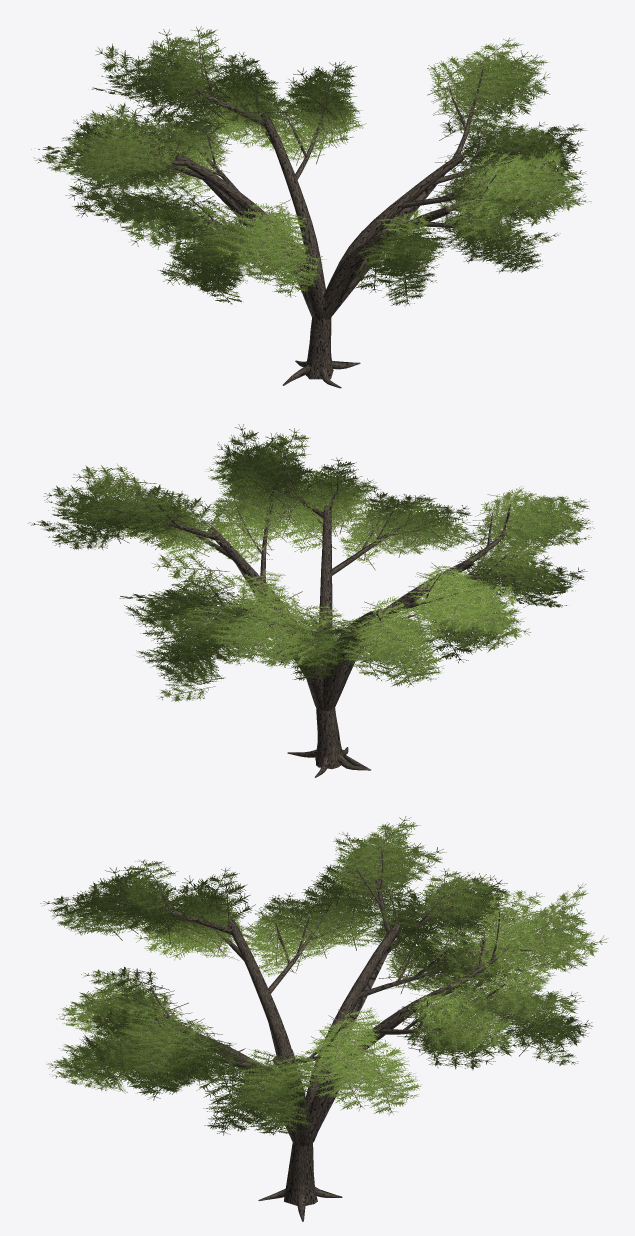
Rendered from acacia.glb.
The picture shows the model from 3 angles, top to bottom: view 1: azimuth 30°, elevation 25°; view 2: azimuth 150°, elevation 25°; view 3: azimuth 270°, elevation 25°; orthographic projection. The views are drawn at different scales.
Parts seen in each view (by area): view 1: Leaves, Leaves_far, Trunk, Trunk_far; view 2: Leaves, Leaves_far, Trunk, Trunk_far; view 3: Leaves, Leaves_far, Trunk, Trunk_far.
Part boxes in pixels (x1,y1,x2,y2): Leaves: (31,26,591,306); Leaves_far: (68,46,587,291); Trunk: (113,54,530,388); Trunk_far: (118,70,539,385); Leaves: (28,424,594,701); Leaves_far: (58,424,589,686); Trunk: (85,460,526,777); Trunk_far: (91,460,541,777); Leaves: (46,816,608,1135); Leaves_far: (40,836,598,1132); Trunk: (116,850,548,1221); Trunk_far: (97,868,549,1220).
Bounding box in the file's own units: 13.64 × 6.99 × 13.01.
Materials: 2 (2 with a texture image).
